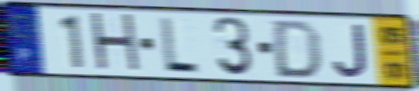1: (58, 13, 85, 71)
3: (210, 15, 255, 79)
D: (273, 18, 323, 81)
H: (87, 10, 144, 76)
J: (331, 21, 370, 80)
L: (158, 15, 202, 76)
